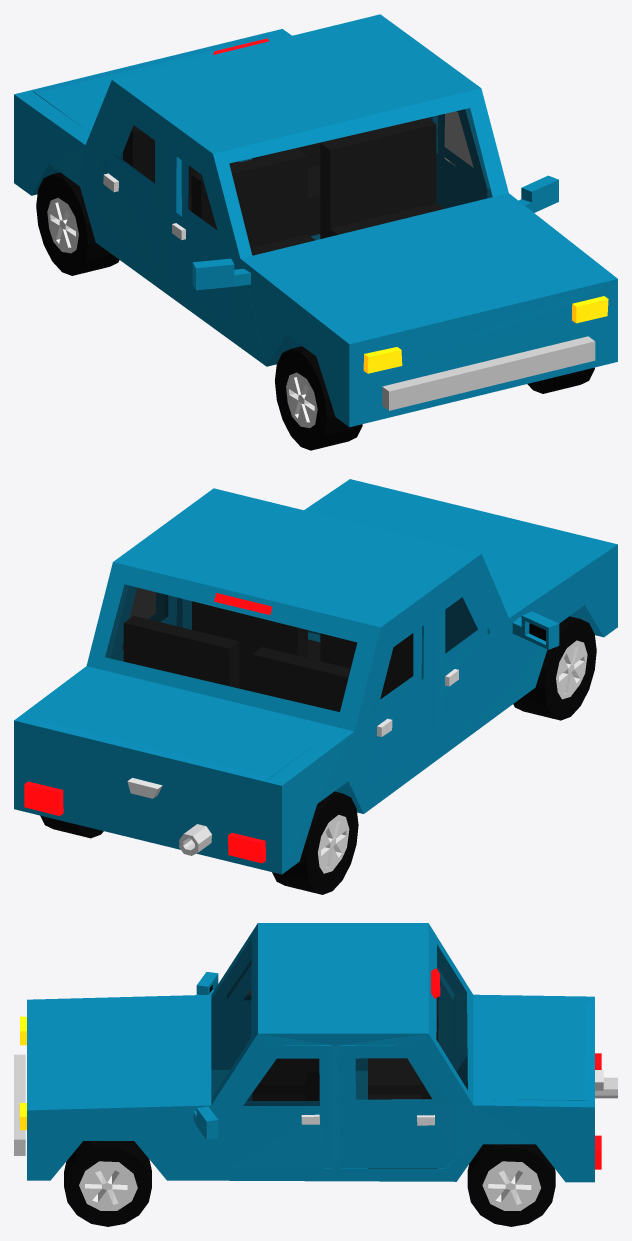
Rendered from car.glb.
The picture shows the model from 3 angles, top to bottom: view 1: azimuth 30°, elevation 25°; view 2: azimuth 150°, elevation 25°; view 3: azimuth 270°, elevation 25°; orthographic projection. The views are drawn at different scales.
Parts seen in each view (by area): view 1: Cube001, Cube001_2, FrontHatch, Cube001_1, Cube010, Cube002, FrontBumber, Cube005, Cylinder002_1, Cylinder003_1, Cube003, Cube001_3 (+8 smaller); view 2: Cube001, Cube005, Cube001_2, Cube001_1, FrontHatch, Cube010, Cube002, Cylinder003_1, Cylinder002_1, Cube001_4, Cube012, Cylinder002 (+7 smaller); view 3: Cube001, FrontHatch, Cube005, Cube012, Cube003, Cube001_2, Cube001_1, Cylinder001_1, Cylinder004_1, Cube003_1, Cube012_1, Cylinder001 (+7 smaller).
Boxes of the visible parts, box(x1,y1,x2,y2) form: Cube001: box(14, 14, 617, 427); Cube001_2: box(229, 108, 492, 255); FrontHatch: box(267, 206, 592, 334); Cube001_1: box(123, 118, 443, 255); Cube010: box(96, 99, 163, 276); Cube002: box(169, 136, 231, 326); FrontBumber: box(382, 336, 595, 410); Cube005: box(31, 32, 276, 132); Cylinder002_1: box(275, 346, 362, 450); Cylinder003_1: box(36, 172, 119, 275); Cube003: box(428, 108, 492, 208); Cube001_3: box(363, 296, 608, 373); Cube001: box(14, 479, 617, 874); Cube005: box(28, 677, 326, 828); Cube001_2: box(105, 584, 466, 711); Cube001_1: box(123, 601, 413, 711); FrontHatch: box(322, 489, 593, 605); Cube010: box(365, 604, 432, 793); Cube002: box(438, 573, 499, 744); Cylinder003_1: box(272, 791, 358, 894); Cylinder002_1: box(513, 616, 596, 720); Cube001_4: box(24, 593, 272, 863); Cube012: box(105, 584, 176, 661); Cylinder002: box(556, 640, 587, 699); Cube001: box(27, 923, 594, 1182); FrontHatch: box(40, 1002, 195, 1103); Cube005: box(489, 1002, 594, 1100); Cube012: box(340, 1045, 454, 1168); Cube003: box(227, 1045, 331, 1168); Cube001_2: box(211, 938, 467, 1097); Cube001_1: box(252, 997, 438, 1168); Cylinder001_1: box(64, 1141, 151, 1226); Cylinder004_1: box(467, 1144, 555, 1226); Cube003_1: box(243, 1058, 319, 1105); Cube012_1: box(355, 1058, 431, 1099); Cylinder001: box(79, 1161, 137, 1210).
Bounding box in the file's own units: 6.76 × 4.06 × 11.53.
